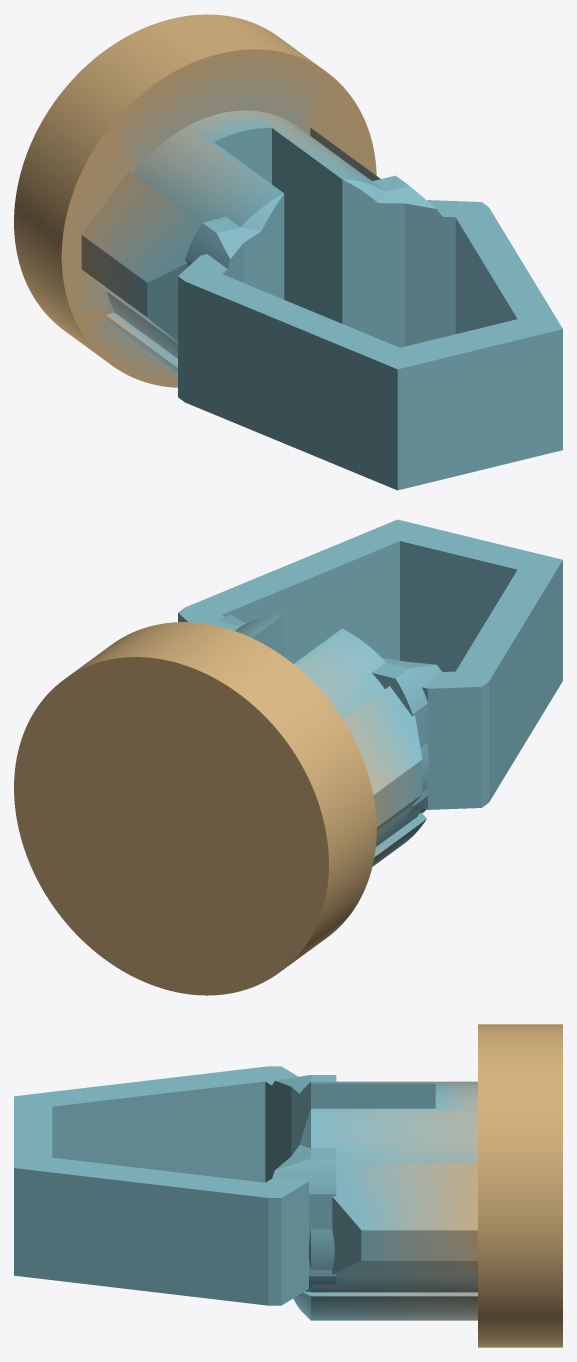
The model's file is lower-hoop-upright.glb.
3 views of the same model, one above another, from view 1: azimuth 30°, elevation 25°; view 2: azimuth 150°, elevation 25°; view 3: azimuth 270°, elevation 25° (orthographic). The views are drawn at different scales.
Visible parts, largest first — view 1: peg-lower-hoop-upright__v1__pf02c9-hoop5__nub120.stl; view 2: peg-lower-hoop-upright__v1__pf02c9-hoop5__nub120.stl; view 3: peg-lower-hoop-upright__v1__pf02c9-hoop5__nub120.stl.
Part boxes in pixels (x1,y1,x2,y2): peg-lower-hoop-upright__v1__pf02c9-hoop5__nub120.stl: (14, 14, 562, 490); peg-lower-hoop-upright__v1__pf02c9-hoop5__nub120.stl: (14, 519, 562, 995); peg-lower-hoop-upright__v1__pf02c9-hoop5__nub120.stl: (14, 1024, 562, 1347).
Size of the model in its own units: 0.00762 by 0.00762 by 0.0129.
